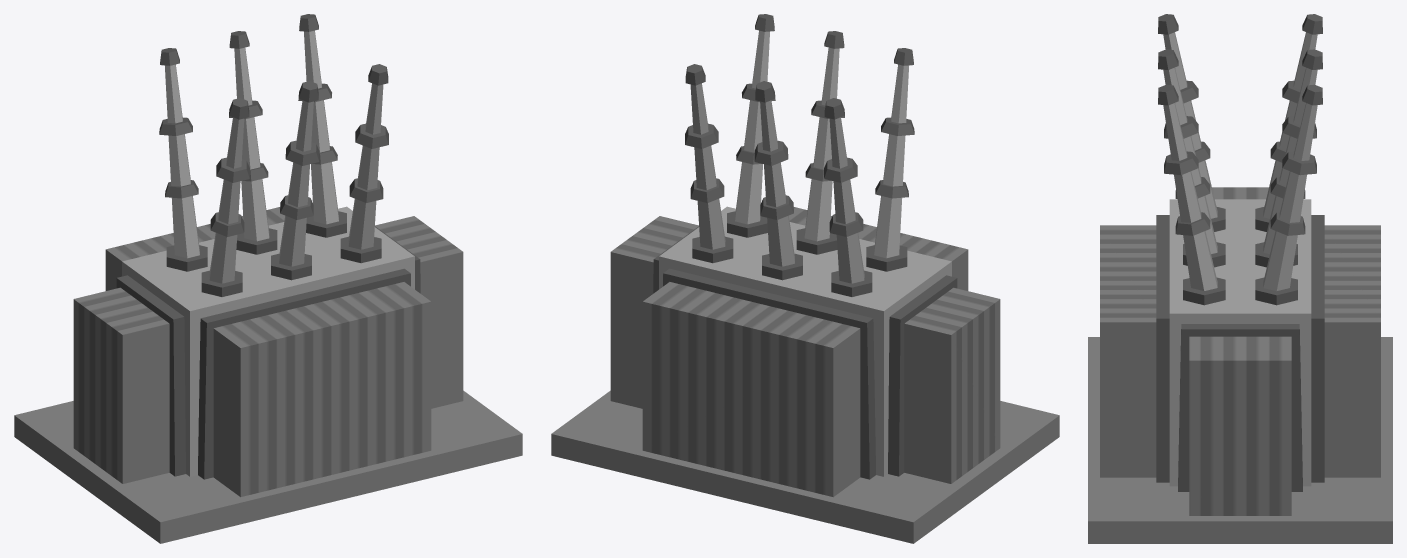
File: west_zs11.FBX
The picture shows the model from 3 angles, left to right: view 1: azimuth 30°, elevation 25°; view 2: azimuth 150°, elevation 25°; view 3: azimuth 270°, elevation 25°; orthographic projection. The views are drawn at different scales.
Visible parts, largest first — view 1: west_zs11; view 2: west_zs11; view 3: west_zs11.
Part boxes in pixels (x1,y1,x2,y2): west_zs11: (14,14,522,543); west_zs11: (551,14,1059,543); west_zs11: (1088,14,1392,543).
Size of the model in its own units: 1719 by 1752 by 1202.
